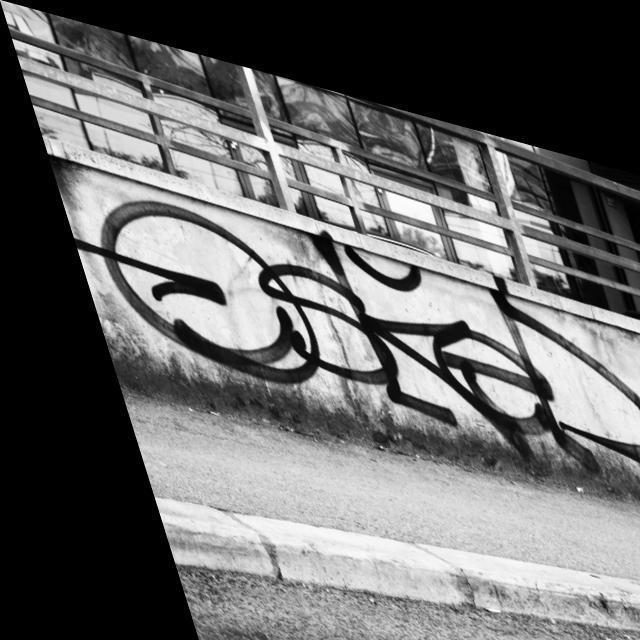nonspitting: (76, 199, 640, 473)
